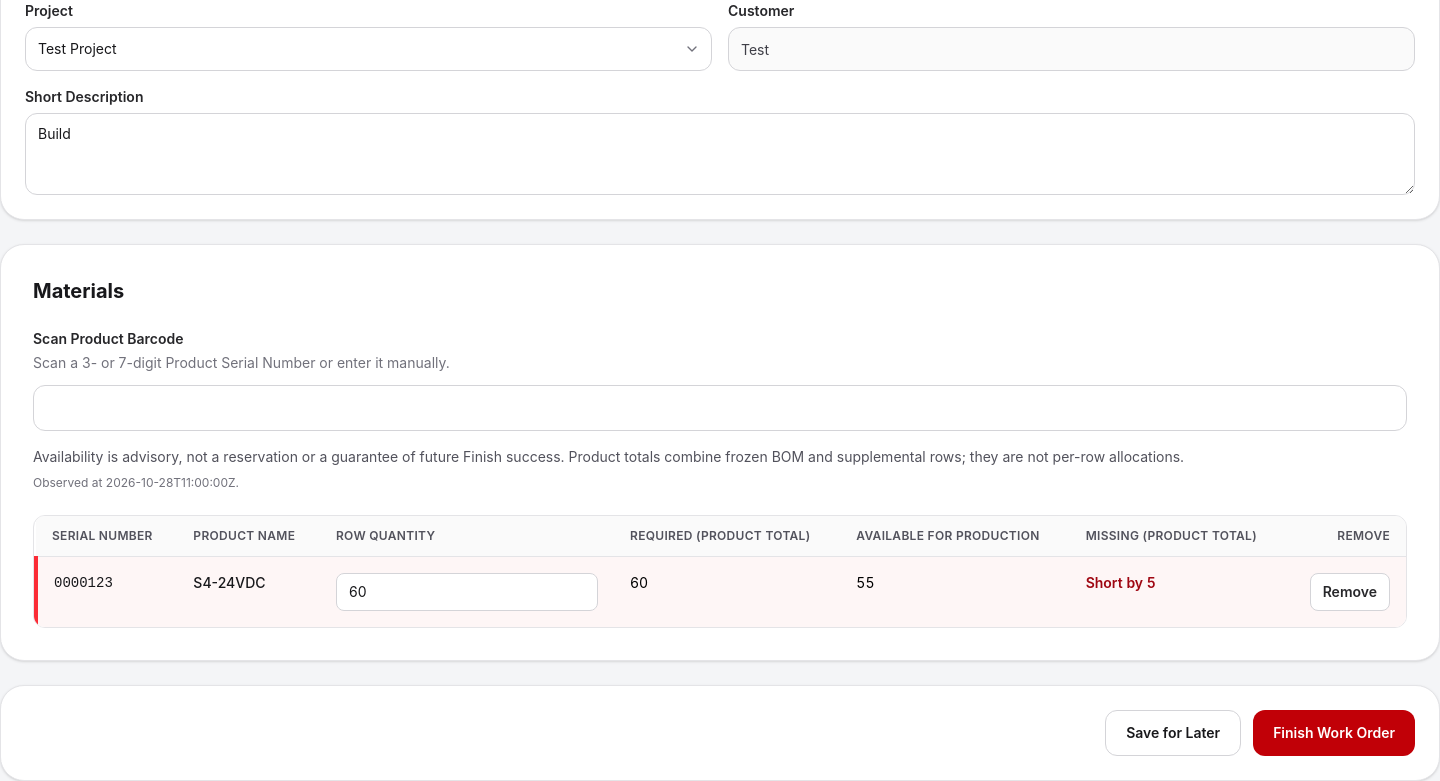
Test case: does not block Draft saving or change Finish submission when a shortage is shown
(page scrolled)
Expected: the text "Short by 5" is shown, 1070,556 -> 1286,627
Click the button "Save for Later".
click(1173, 733)  # box 1105,710 -> 1241,756
(page scrolled)
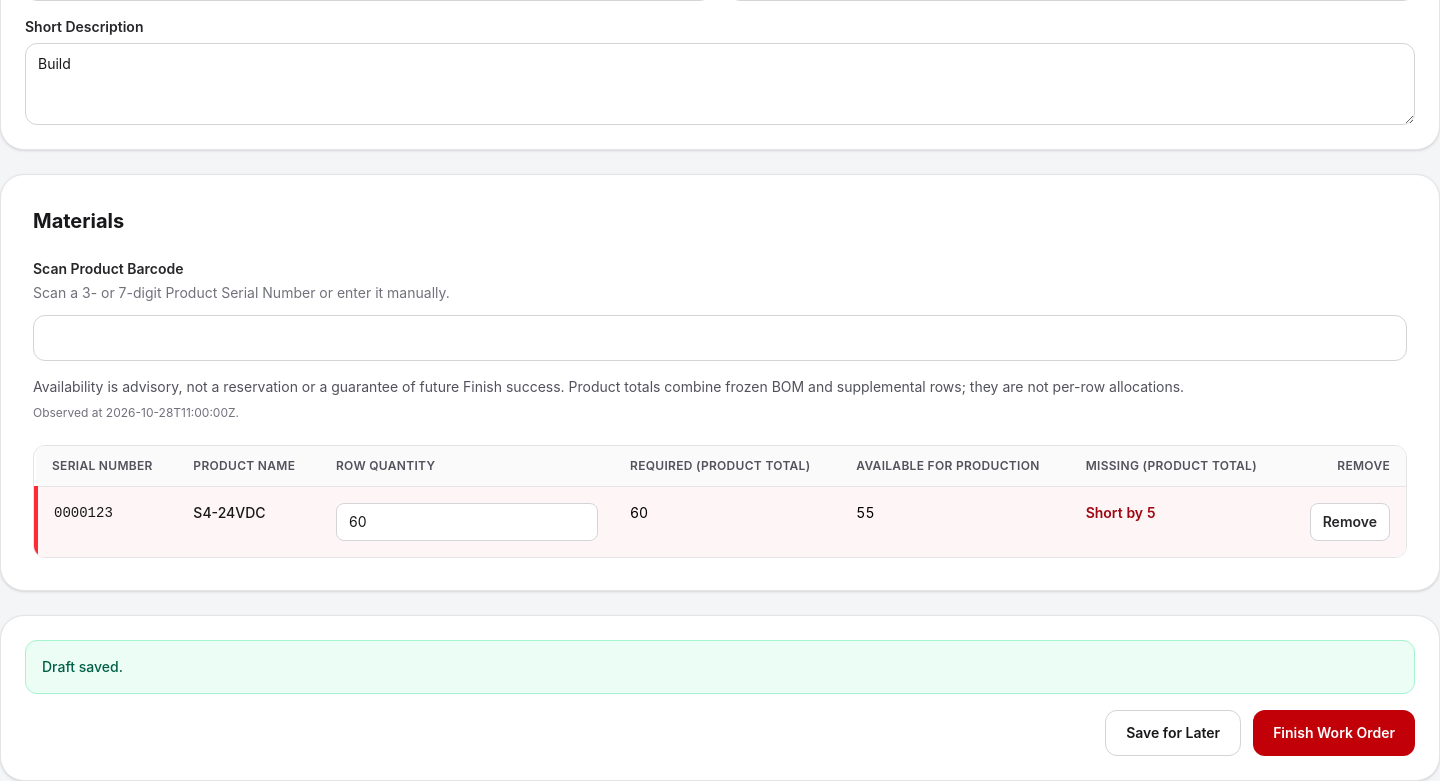
Click the button "Finish Work Order".
click(1334, 733)  # box 1253,710 -> 1415,756
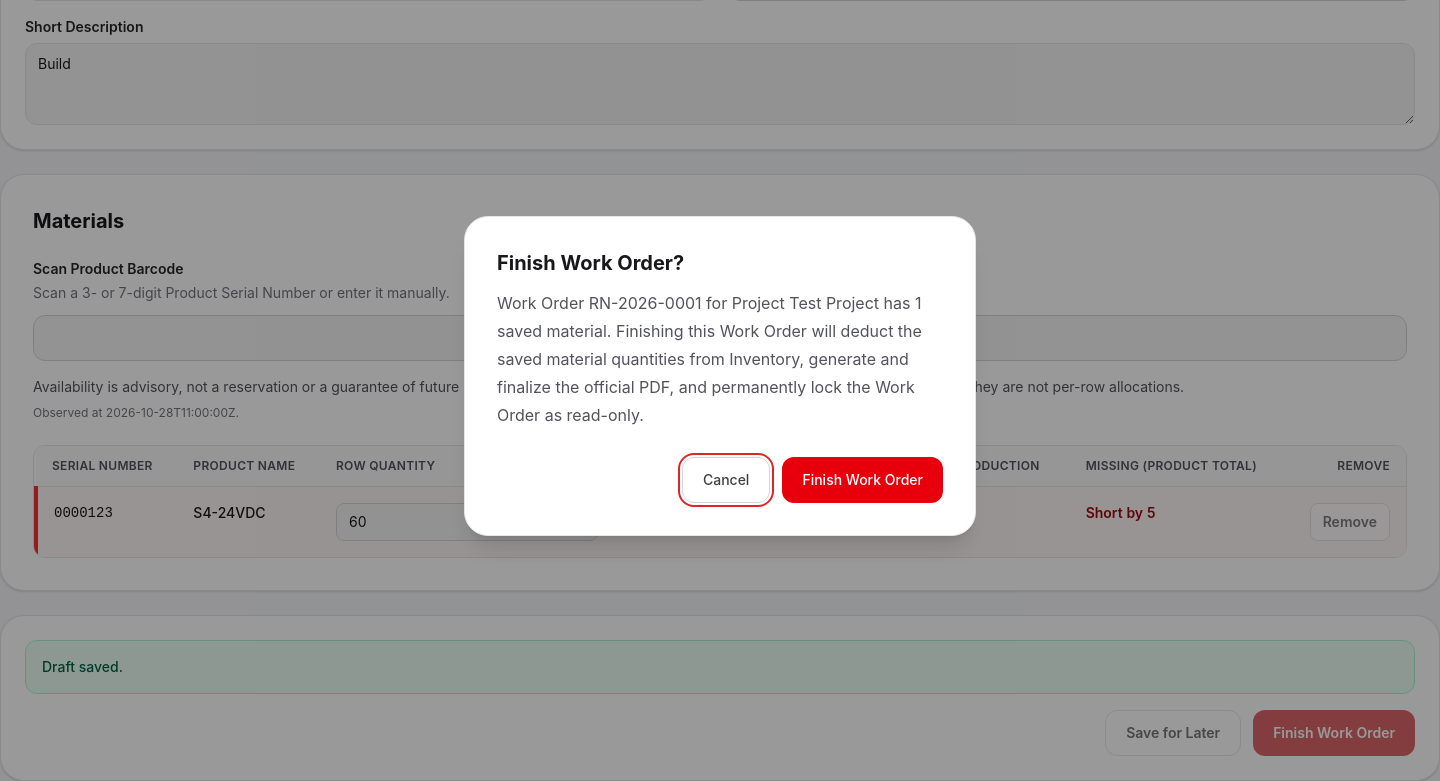
Click the button "Finish Work Order".
click(863, 480)  # box 782,457 -> 943,503
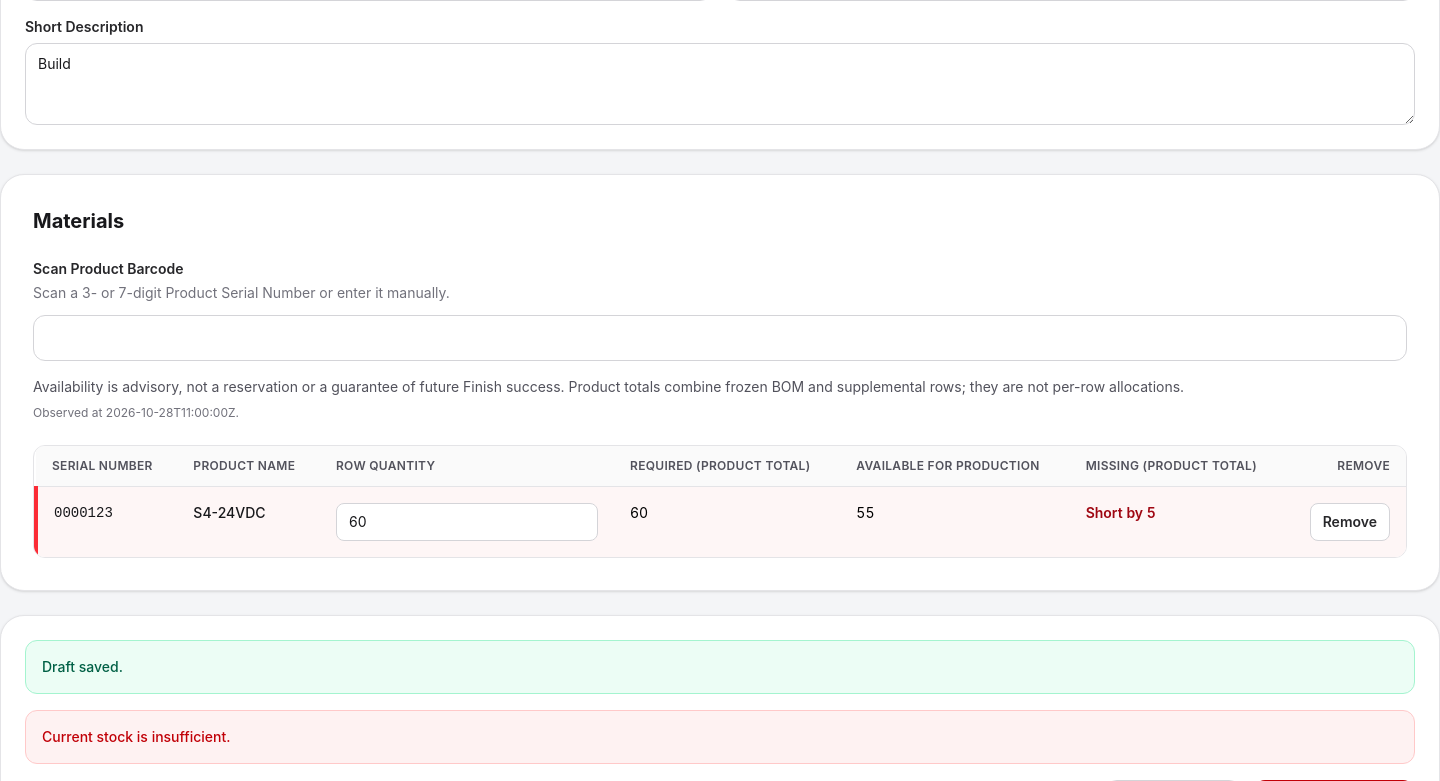
Expected: the text "Current stock is insufficient." is shown, 42,728 -> 230,745
